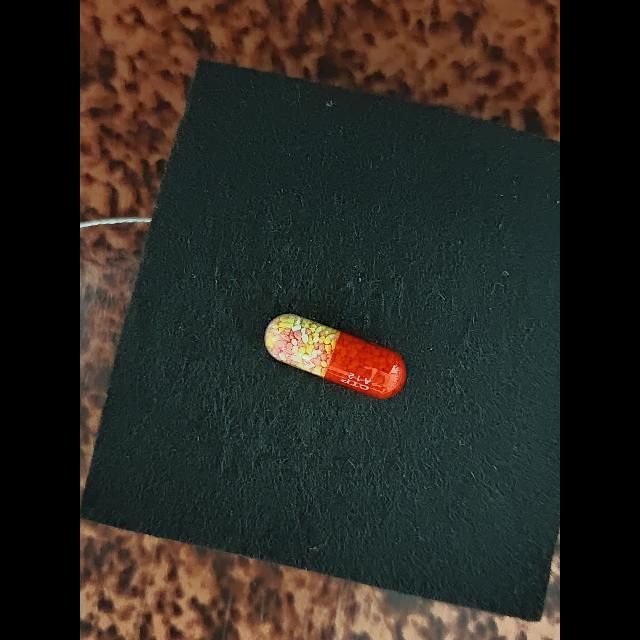Intact Capsule: (265, 313, 406, 399)
